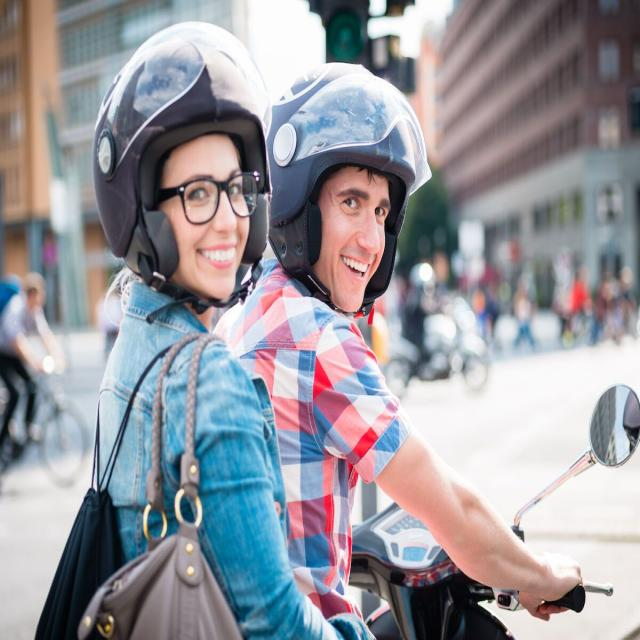helmet: (85, 13, 275, 319), (264, 53, 435, 331)
